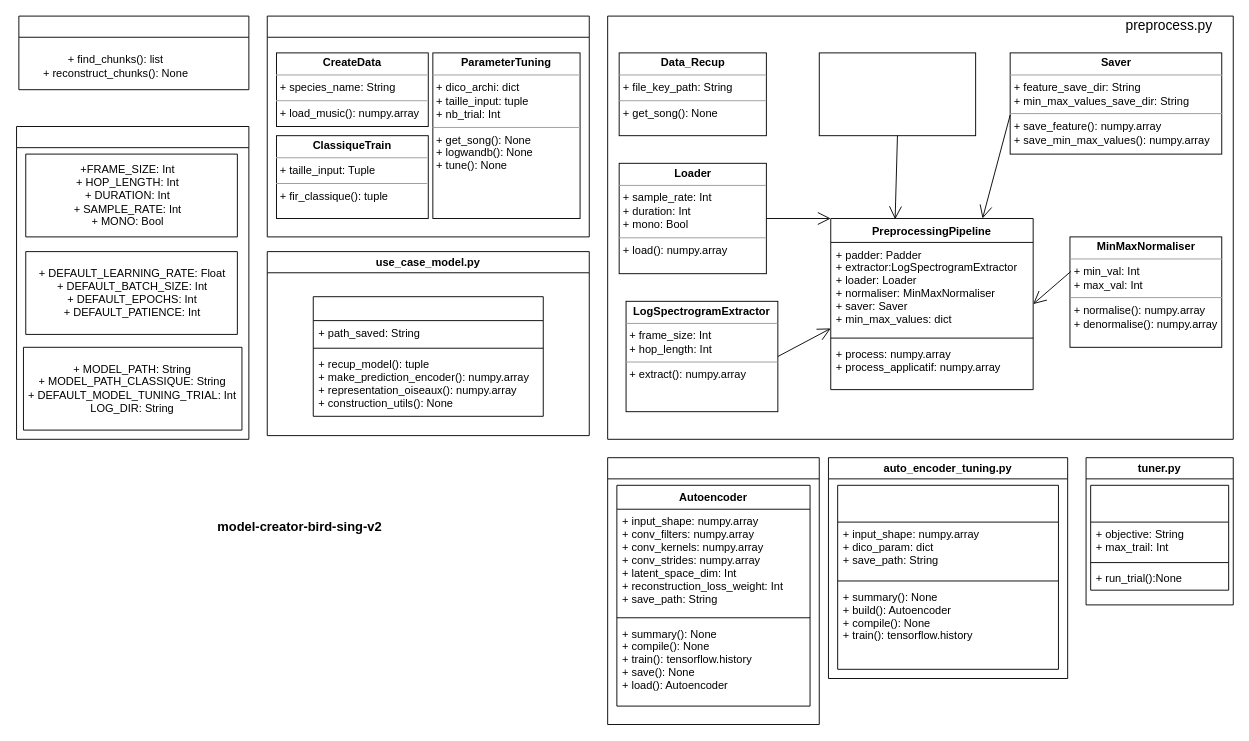
Image size: 1249x741. Some labels were removed from this diagram. The box of each missing label's shape, as (x1, y1, x2, y2) in pixels:
auto_encoder.py: (607, 457, 819, 724)
Autoencoder_Tuning (keras-tuner.HyperModel): (837, 484, 1058, 669)
config_default.py: (16, 126, 249, 439)
decoupe.py: (18, 15, 249, 90)
MyTuner (keras-tuner.Tuner): (1090, 484, 1229, 590)
Padder + mode: String + left_pad(): numpy.array + right_pad(): numpy.array: (818, 52, 976, 136)
train.py: (266, 15, 589, 237)
Use_Case_Model: (312, 296, 543, 416)
